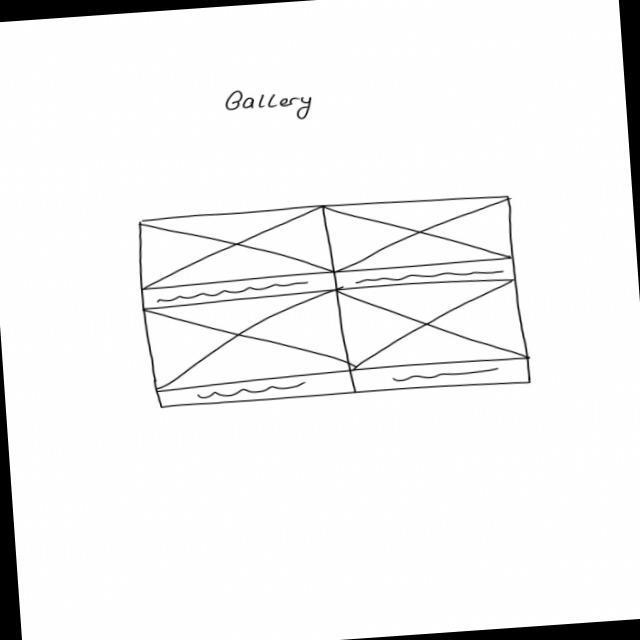container: (138, 270, 340, 312), (156, 370, 359, 410), (350, 355, 535, 398), (333, 256, 520, 292)
image: (140, 289, 352, 392), (338, 275, 530, 374), (135, 202, 338, 288), (319, 193, 519, 276)
label: (221, 84, 317, 127)
text: (154, 281, 314, 305), (351, 268, 506, 286), (196, 380, 308, 402), (391, 365, 507, 384)
